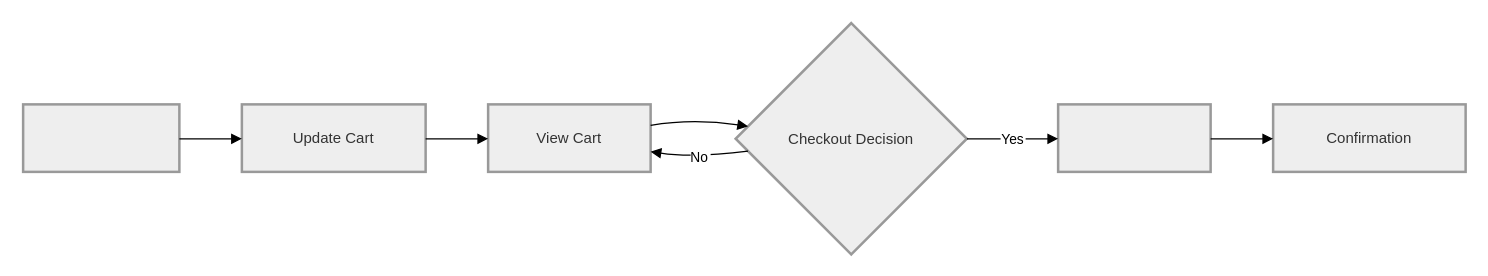
Some shapes in this 1488 by 276 pixel diagram are drawn without their labels. Each missing label, with the box of its shape:
Add Item: (21, 102, 180, 172)
Payment: (1056, 102, 1211, 172)
